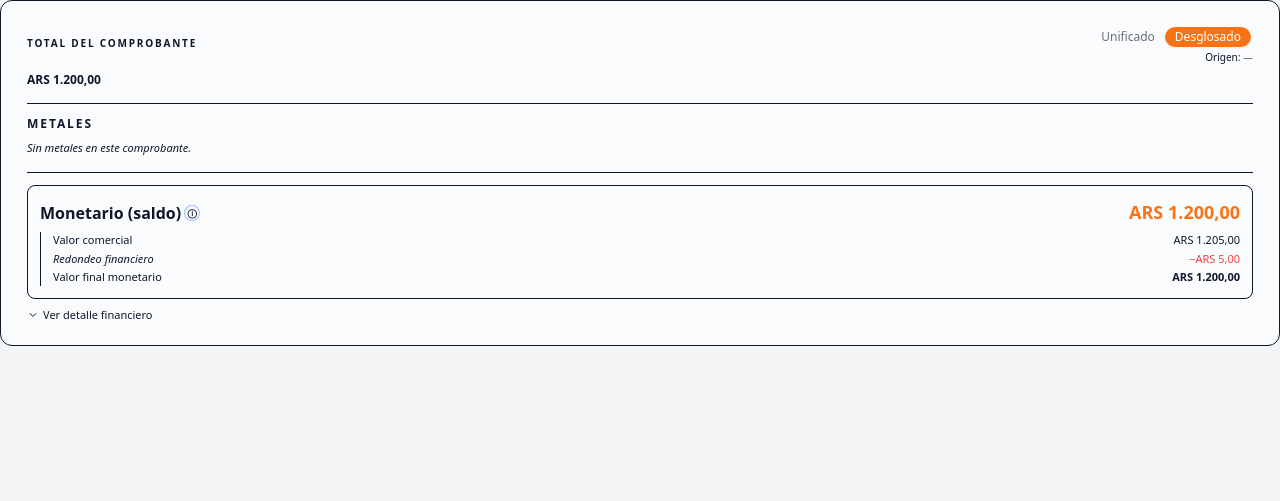
Scenario: TotalDelComprobanteCard — POLICY §R-Rounding-3 distinción lista vs comprobante › (R-3.D) scope BOTH → caption menciona TOTAL + metal + hechura
Click the button with test id "total-card-composicion-toggle" at (90, 315), box [27,306,152,323]
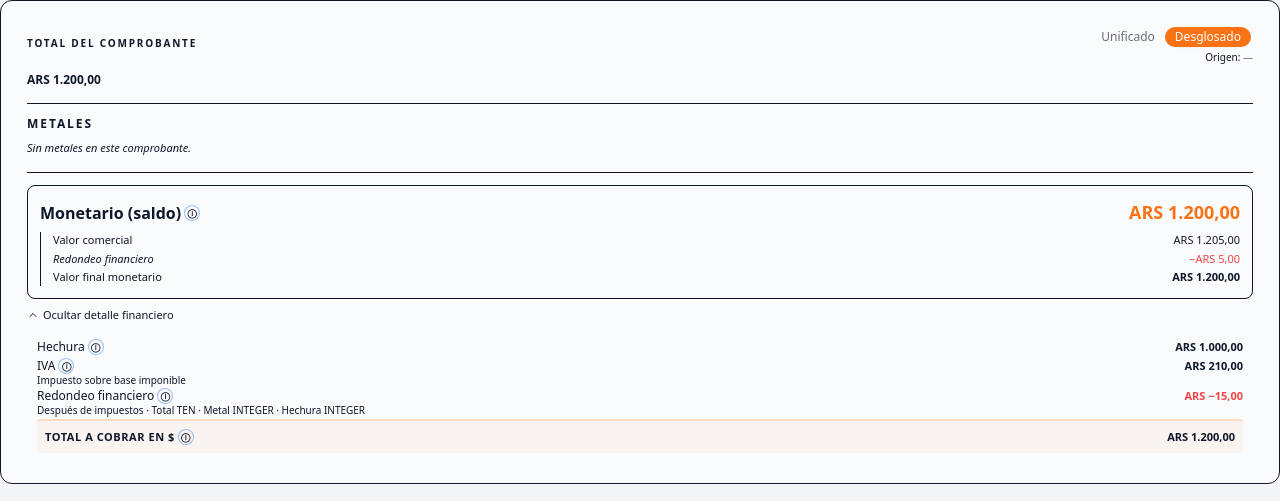
Check: the list item with test id "total-card-component-ROUNDING_MONETARY" shows "Total TEN", box [37,403,365,417]
Check: the list item with test id "total-card-component-ROUNDING_MONETARY" shows "Metal INTEGER", box [37,403,365,417]
Check: the list item with test id "total-card-component-ROUNDING_MONETARY" shows "hechura integer", box [37,403,365,417]
